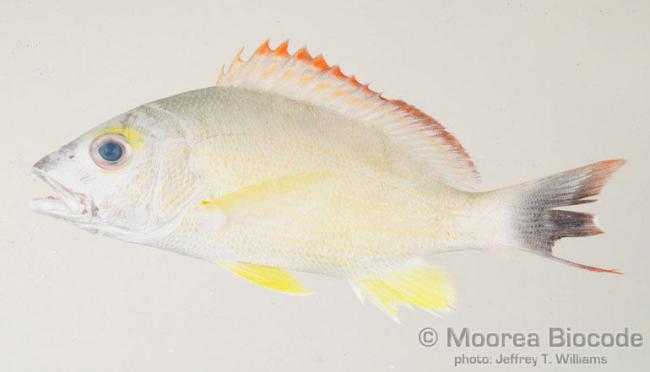fish: (28, 38, 631, 324)
